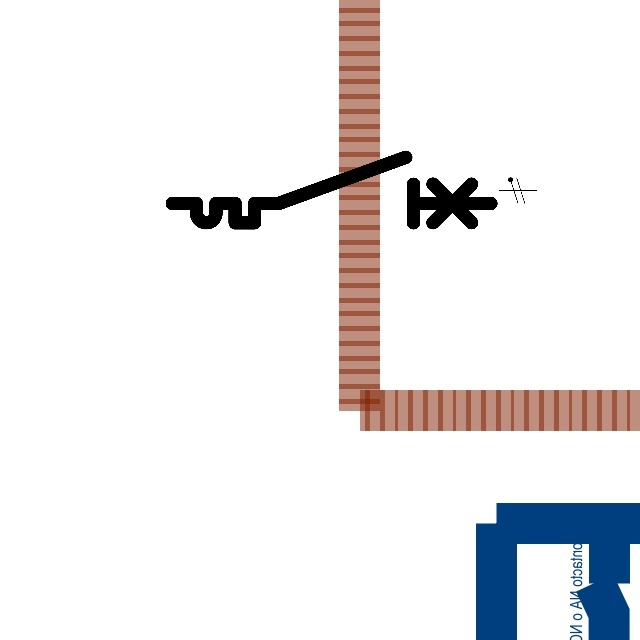interruptor_termomagnetico: (164, 149, 499, 231)
